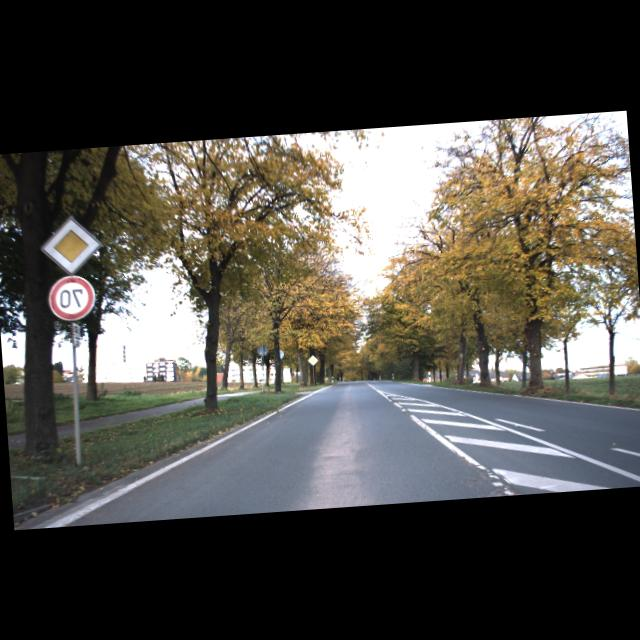other: (38, 214, 104, 276), (306, 354, 318, 366)
prohibitory: (48, 274, 96, 321)
